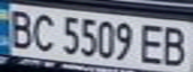0: (97, 18, 118, 61)
5: (75, 16, 100, 58), (57, 14, 81, 56)
9: (115, 19, 139, 62)
B: (157, 22, 190, 68), (3, 7, 36, 50)
C: (27, 10, 60, 53)
E: (136, 20, 169, 65)
